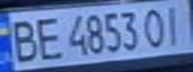3: (118, 8, 145, 53)
4: (63, 11, 87, 56)
5: (103, 9, 124, 54)
8: (84, 10, 106, 55)
B: (3, 16, 42, 64)
E: (30, 14, 63, 62)
I: (160, 2, 190, 47)
O: (139, 5, 172, 48)
